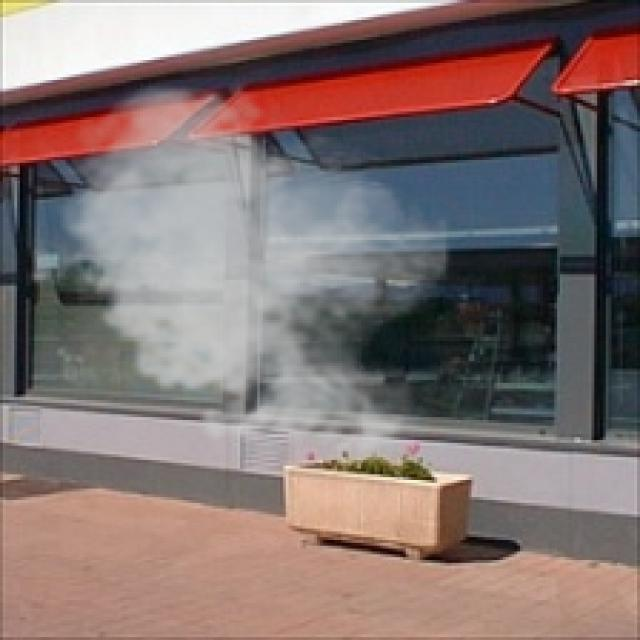Smoke: (46, 77, 452, 469)
